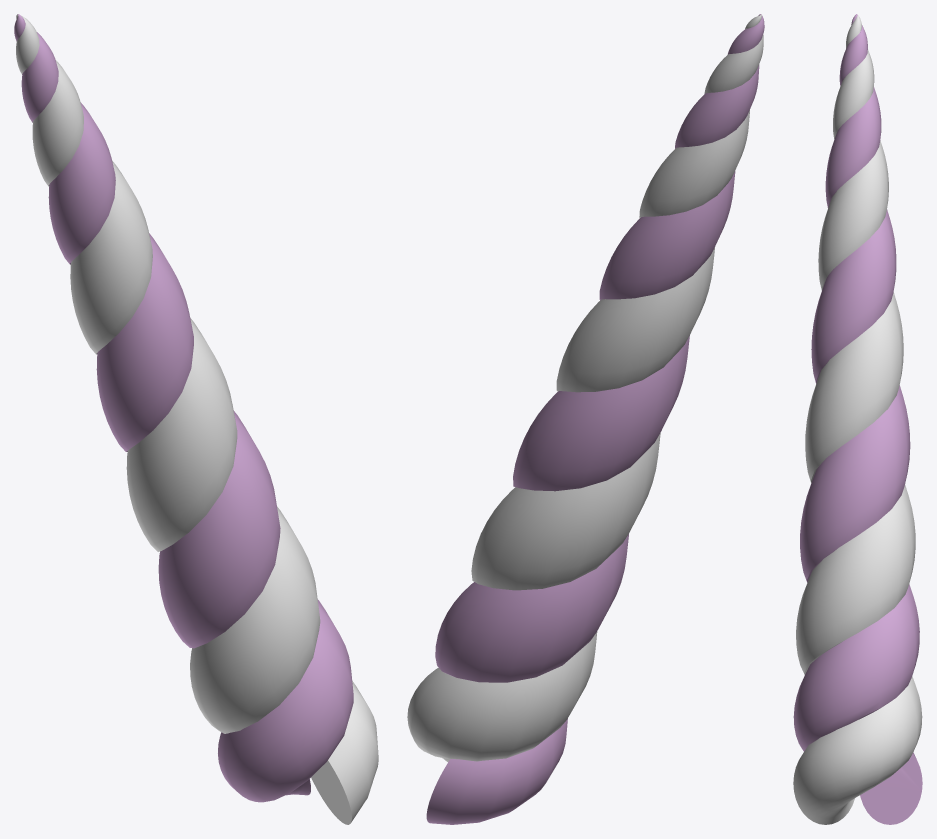
Rendered from Unicorn Horn.fbx.
The picture shows the model from 3 angles, left to right: view 1: azimuth 30°, elevation 25°; view 2: azimuth 150°, elevation 25°; view 3: azimuth 270°, elevation 25°; orthographic projection. The views are drawn at different scales.
Parts seen in each view (by area): view 1: 0.Unicorn Horn.001, 0.Unicorn Horn; view 2: 0.Unicorn Horn.001, 0.Unicorn Horn; view 3: 0.Unicorn Horn, 0.Unicorn Horn.001.
Part boxes in pixels (x1=…): 0.Unicorn Horn.001: x1=14, y1=14, x2=353, y2=802; 0.Unicorn Horn: x1=16, y1=14, x2=378, y2=824; 0.Unicorn Horn.001: x1=426, y1=14, x2=764, y2=824; 0.Unicorn Horn: x1=407, y1=14, x2=763, y2=761; 0.Unicorn Horn: x1=793, y1=15, x2=922, y2=824; 0.Unicorn Horn.001: x1=793, y1=14, x2=922, y2=824.
Bounding box in the file's own units: 65.41 × 155 × 26.28.
